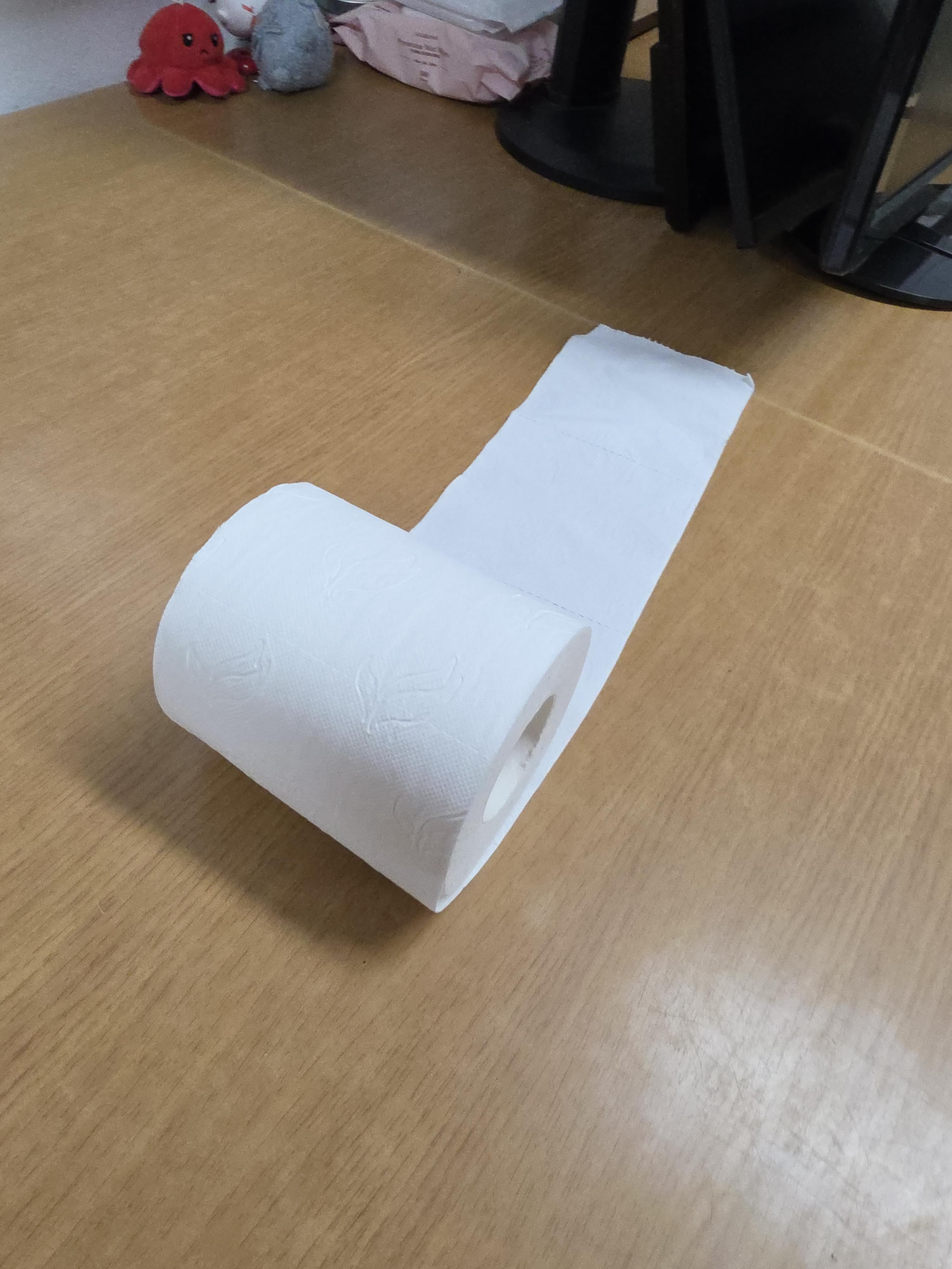tissue: (151, 324, 755, 915)
